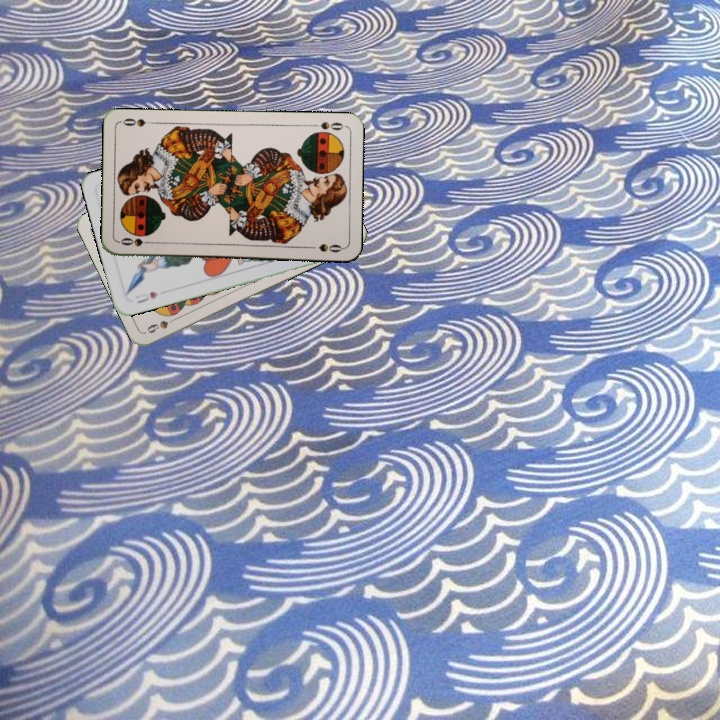HU: (131, 288, 160, 306)
S9: (143, 312, 181, 336)
SO: (116, 234, 156, 248), (316, 118, 347, 133)
